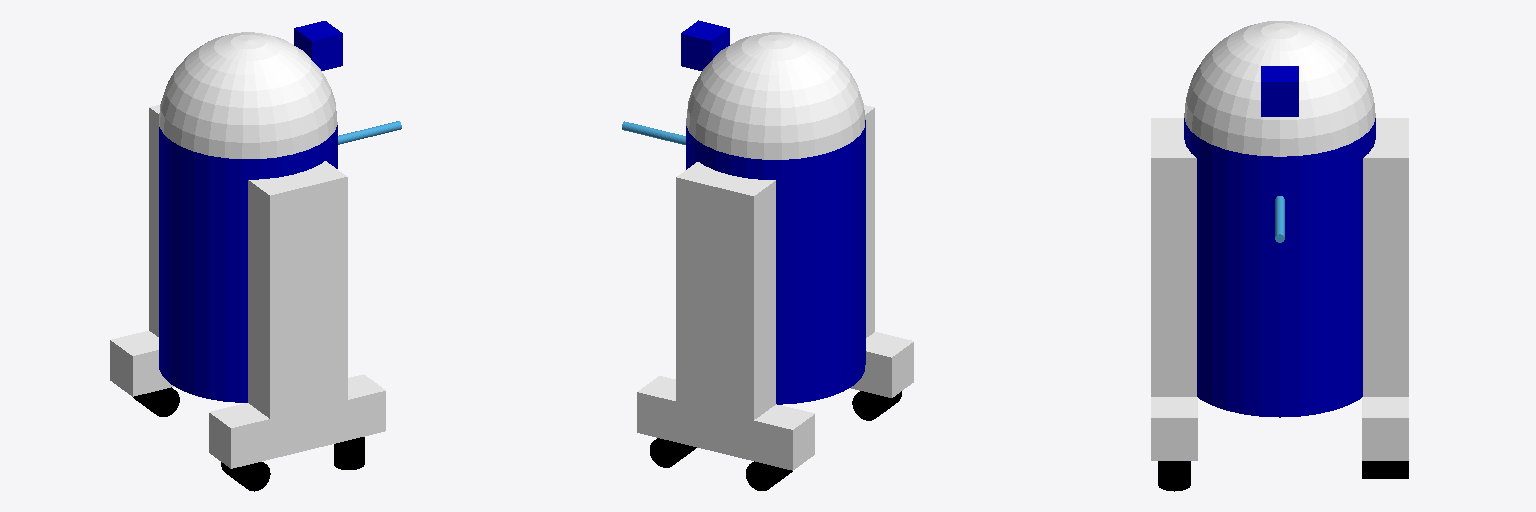
robot.urdf — visual:
<?xml version="1.0"?>
<robot name="visual">

<material name="blue">
    <color rgba="0 0 0.8 1"/>
  </material>
  <material name="black">
    <color rgba="0 0 0 1"/>
  </material>
  <material name="white">
    <color rgba="1 1 1 1"/>
  </material>

  <link name="base_link">
    <visual>
      <geometry>
        <cylinder length="0.6" radius="0.2"/>
      </geometry>
      <material name="blue"/>
    </visual>
  </link>

  <link name="right_leg">
    <visual>
      <geometry>
        <box size="0.6 0.1 0.2"/>
      </geometry>
      <origin rpy="0 1.57075 0" xyz="0 0 -0.3"/>
      <material name="white"/>
    </visual>
  </link>

  <joint name="base_to_right_leg" type="fixed">
    <parent link="base_link"/>
    <child link="right_leg"/>
    <origin xyz="0 -0.22 0.25"/>
  </joint>

  <link name="right_base">
    <visual>
      <geometry>
        <box size="0.4 0.1 0.1"/>
      </geometry>
      <material name="white"/>
    </visual>
  </link>

  <joint name="right_base_joint" type="fixed">
    <parent link="right_leg"/>
    <child link="right_base"/>
    <origin xyz="0 0 -0.6"/>
  </joint>

  <link name="right_front_wheel">
    <visual>
      <origin rpy="1.57075 0 0" xyz="0 0 0"/>
      <geometry>
        <cylinder length="0.1" radius="0.035"/>
      </geometry>
      <material name="black"/>
      <origin rpy="0 0 0" xyz="0 0 0"/>
    </visual>
  </link>
  <joint name="right_front_wheel_joint" type="continuous">
    <axis rpy="0 0 0" xyz="0 1 0"/>
    <parent link="right_base"/>
    <child link="right_front_wheel"/>
    <origin rpy="0 0 0" xyz="0.133333333333 0 -0.085"/>
  </joint>

  <link name="right_back_wheel">
    <visual>
      <origin rpy="1.57075 0 0" xyz="0 0 0"/>
      <geometry>
        <cylinder length="0.1" radius="0.035"/>
      </geometry>
      <material name="black"/>
    </visual>
  </link>
  <joint name="right_back_wheel_joint" type="continuous">
    <axis rpy="0 0 0" xyz="0 1 0"/>
    <parent link="right_base"/>
    <child link="right_back_wheel"/>
    <origin rpy="0 0 0" xyz="-0.133333333333 0 -0.085"/>
  </joint>

  <link name="left_leg">
    <visual>
      <geometry>
        <box size="0.6 0.1 0.2"/>
      </geometry>
      <origin rpy="0 1.57075 0" xyz="0 0 -0.3"/>
      <material name="white"/>
    </visual>
  </link>

  <joint name="base_to_left_leg" type="fixed">
    <parent link="base_link"/>
    <child link="left_leg"/>
    <origin xyz="0 0.22 0.25"/>
  </joint>

  <link name="left_base">
    <visual>
      <geometry>
        <box size="0.4 0.1 0.1"/>
      </geometry>
      <material name="white"/>
    </visual>
  </link>

  <joint name="left_base_joint" type="fixed">
    <parent link="left_leg"/>
    <child link="left_base"/>
    <origin xyz="0 0 -0.6"/>
  </joint>

  <link name="left_front_wheel">
    <visual>
      <origin rpy="1.57075 0 0" xyz="0 0 0"/>
      <geometry>
        <cylinder length="0.1" radius="0.035"/>
      </geometry>
      <material name="black"/>
    </visual>
  </link>
  <joint name="left_front_wheel_joint" type="continuous">
    <axis rpy="0 0 0" xyz="0 1 0"/>
    <parent link="left_base"/>
    <child link="left_front_wheel"/>
    <origin rpy="0 0 0" xyz="0.133333333333 0 -0.085"/>
  </joint>

  <link name="left_back_wheel">
    <visual>
      <origin rpy="1.57075 0 0" xyz="0.02 0 0"/>
      <geometry>
        <cylinder length="0.1" radius="0.035"/>
      </geometry>
      <material name="black"/>
    </visual>
  </link>
  <joint name="left_back_wheel_joint" type="continuous">
    <axis rpy="0 0 0" xyz="0 1 0"/>
    <parent link="left_base"/>
    <child link="left_back_wheel"/>
    <origin rpy="0 0 0" xyz="-0.133333333333 0 -0.085"/>
  </joint>

  <joint name="gripper_extension" type="prismatic">
    <parent link="base_link"/>
    <child link="gripper_pole"/>
    <axis rpy="0 0 0" xyz="1 0 0"/>
    <limit effort="1000.0" lower="-0.38" upper="0" velocity="0.5"/>
    <origin rpy="0 0 0" xyz="0.19 0 0.2"/>
  </joint>

  <link name="gripper_pole">
    <visual>
      <geometry>
        <cylinder length="0.2" radius="0.01"/>
      </geometry>
      <origin rpy="0 1.57075 0 " xyz="0.1 0 0"/>
    </visual>
  </link>

  <joint name="left_gripper_joint" type="revolute">
    <axis xyz="0 0 1"/>
    <limit effort="1000.0" lower="0.0" upper="0.548" velocity="0.5"/>
    <origin rpy="0 0 0" xyz="0.2 0.01 0"/>
    <parent link="gripper_pole"/>
    <child link="left_gripper"/>
  </joint>

  <link name="left_gripper">
    <visual>
      <origin rpy="0.0 0 0" xyz="0 0 0"/>
      <geometry>
        <mesh filename="package://urdf_tutorial/meshes/l_finger.dae"/>
      </geometry>
    </visual>
  </link>

  <joint name="left_tip_joint" type="fixed">
    <parent link="left_gripper"/>
    <child link="left_tip"/>
  </joint>

  <link name="left_tip">
    <visual>
      <origin rpy="0.0 0 0" xyz="0.09137 0.00495 0"/>
      <geometry>
        <mesh filename="package://urdf_tutorial/meshes/l_finger_tip.dae"/>
      </geometry>
    </visual>
  </link>
  <joint name="right_gripper_joint" type="revolute">
    <axis xyz="0 0 -1"/>
    <limit effort="1000.0" lower="0.0" upper="0.548" velocity="0.5"/>
    <origin rpy="0 0 0" xyz="0.2 -0.01 0"/>
    <parent link="gripper_pole"/>
    <child link="right_gripper"/>
  </joint>

  <link name="right_gripper">
    <visual>
      <origin rpy="-3.1415 0 0" xyz="0 0 0"/>
      <geometry>
        <mesh filename="package://urdf_tutorial/meshes/l_finger.dae"/>
      </geometry>
    </visual>
  </link>

  <joint name="right_tip_joint" type="fixed">
    <parent link="right_gripper"/>
    <child link="right_tip"/>
  </joint>

  <link name="right_tip">
    <visual>
      <origin rpy="-3.1415 0 0" xyz="0.09137 0.00495 0"/>
      <geometry>
        <mesh filename="package://urdf_tutorial/meshes/l_finger_tip.dae"/>
      </geometry>
    </visual>
  </link>

  <link name="head">
    <visual>
      <geometry>
        <sphere radius="0.2"/>
      </geometry>
      <material name="white"/>
    </visual>
  </link>
  <joint name="head_swivel" type="continuous">
    <parent link="base_link"/>
    <child link="head"/>
    <axis xyz="0 1 0"/>
    <origin xyz="0 0 0.3"/>
  </joint>

  <link name="box">
    <visual>
      <geometry>
        <box size="0.08 0.08 0.08"/>
      </geometry>
      <material name="blue"/>
    </visual>
  </link>

  <joint name="tobox" type="fixed">
    <parent link="head"/>
    <child link="box"/>
    <origin xyz="0.1814 0 0.1414"/>
  </joint>
</robot>

--- Render facts (derived) ---
Views: 3 orthographic renders of the robot side by side, from view 1: azimuth 30°, elevation 25°; view 2: azimuth 150°, elevation 25°; view 3: azimuth 270°, elevation 25°.
Model visual with 16 links and 15 joints (2 revolute, 5 continuous, 1 prismatic, 7 fixed), rooted at base_link, posed every joint at zero.
Visible links, largest first — view 1: right_leg, base_link, head, right_base, left_base, left_leg, box, right_back_wheel, right_front_wheel, left_back_wheel, gripper_pole; view 2: left_leg, base_link, head, left_base, right_base, right_leg, box, right_back_wheel, left_front_wheel, left_back_wheel, gripper_pole; view 3: base_link, head, right_leg, left_leg, right_base, left_base, box, right_front_wheel, left_front_wheel.
Link boxes in pixels (bbox=[...]): right_leg: bbox=[248, 161, 347, 438]; base_link: bbox=[159, 125, 337, 402]; head: bbox=[159, 32, 337, 158]; right_base: bbox=[209, 374, 385, 468]; left_base: bbox=[110, 331, 174, 396]; left_leg: bbox=[149, 105, 159, 336]; box: bbox=[294, 21, 342, 70]; right_back_wheel: bbox=[221, 462, 270, 491]; right_front_wheel: bbox=[334, 437, 364, 469]; left_back_wheel: bbox=[133, 387, 179, 416]; gripper_pole: bbox=[338, 121, 401, 144]; left_leg: bbox=[676, 162, 775, 440]; base_link: bbox=[686, 120, 865, 404]; head: bbox=[686, 32, 865, 159]; left_base: bbox=[637, 376, 814, 470]; right_base: bbox=[851, 332, 913, 397]; right_leg: bbox=[864, 105, 874, 337]; box: bbox=[681, 20, 729, 70]; right_back_wheel: bbox=[852, 391, 901, 420]; left_front_wheel: bbox=[650, 438, 696, 467]; left_back_wheel: bbox=[746, 461, 792, 490]; gripper_pole: bbox=[622, 121, 685, 144]; base_link: bbox=[1184, 118, 1375, 417]; head: bbox=[1184, 21, 1375, 156]; right_leg: bbox=[1151, 118, 1196, 396]; left_leg: bbox=[1363, 118, 1408, 396]; right_base: bbox=[1151, 397, 1197, 460]; left_base: bbox=[1362, 397, 1408, 460]; box: bbox=[1261, 66, 1298, 116]; right_front_wheel: bbox=[1158, 461, 1190, 491]; left_front_wheel: bbox=[1362, 461, 1408, 478].
Bounding box of the posed robot: 0.59 × 0.54 × 0.985 m (x, y, z).
0 mesh visuals loaded from 2 distinct referenced files (none loaded); not drawn: 4 (reference not matched to a file when rendering).